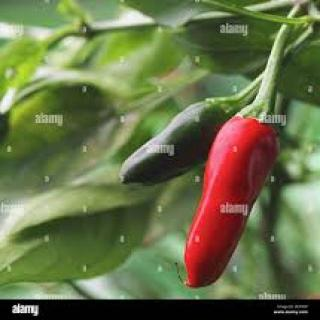Cabai Hijau: (121, 72, 267, 184)
Cabai Merah: (185, 119, 279, 289)
